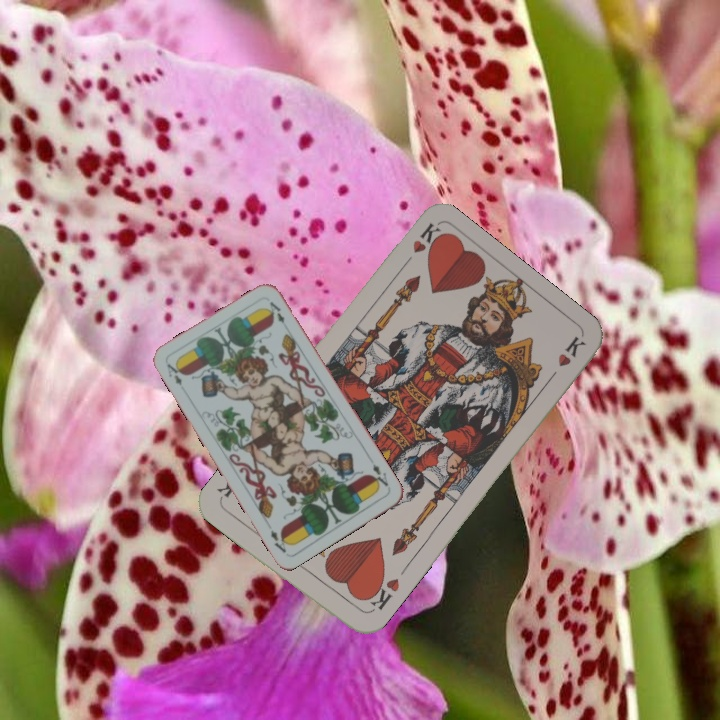EA: (367, 460, 391, 491), (163, 359, 186, 388)
HK: (396, 219, 445, 272), (360, 571, 402, 616)
